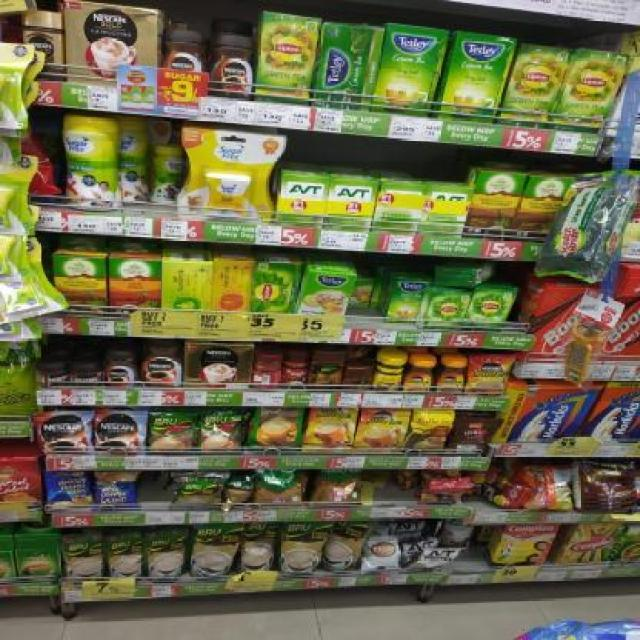Coffee: (22, 11, 64, 80), (162, 32, 204, 96), (209, 36, 251, 96), (93, 410, 145, 454), (36, 413, 90, 455), (139, 340, 183, 386), (357, 410, 406, 448), (306, 409, 352, 448), (470, 356, 510, 395), (104, 350, 136, 386), (402, 361, 433, 392), (437, 362, 466, 392), (71, 360, 101, 386), (40, 360, 68, 384)
